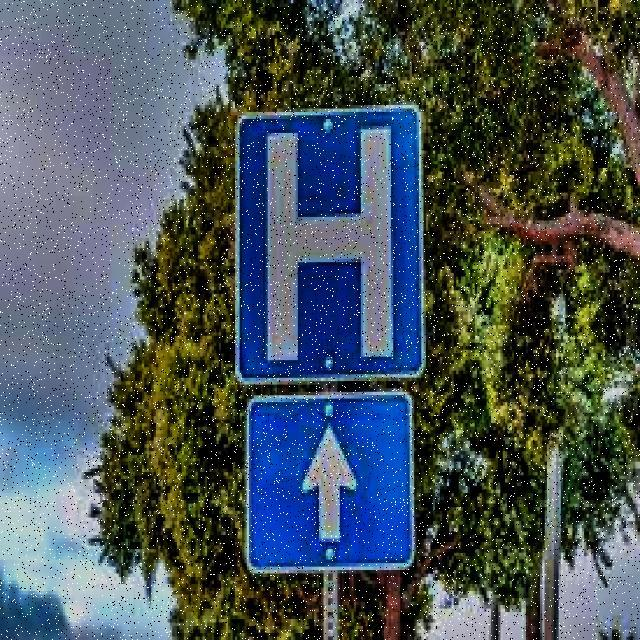Traffic sign: (226, 100, 430, 576)
